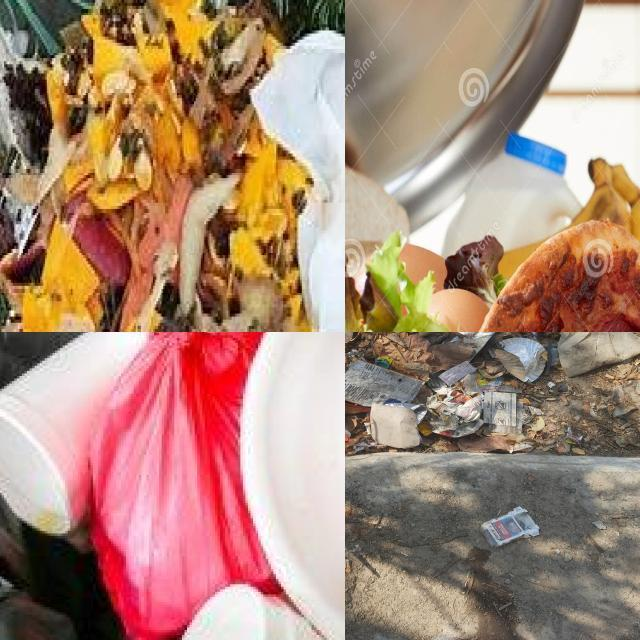Garbage: (0, 0, 345, 332), (345, 121, 640, 332), (345, 332, 640, 459)
Plastic: (375, 357, 392, 368)
Plastic_Bag: (489, 403, 530, 434), (463, 374, 501, 393), (497, 384, 521, 393)
Plastic_Container: (442, 132, 581, 257)
Plastic_wraper: (248, 31, 345, 332), (345, 359, 423, 410), (442, 332, 495, 359), (525, 332, 538, 340)
